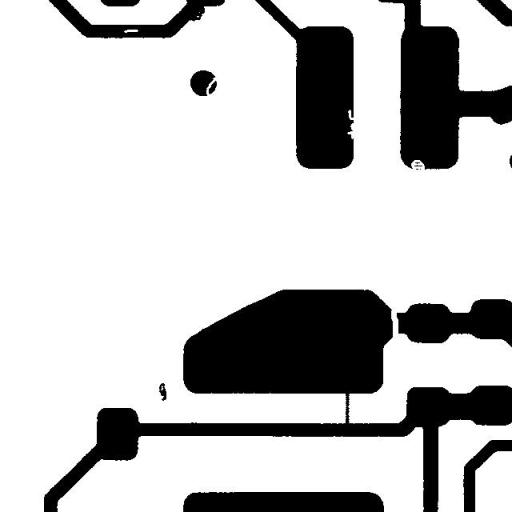copper: (151, 375, 174, 408)
mousebite: (339, 102, 363, 146), (403, 152, 432, 178)
open: (384, 301, 406, 346), (198, 69, 225, 102)
pin-hole: (116, 22, 146, 40)
short: (337, 378, 357, 432)
spur: (181, 0, 212, 29)
